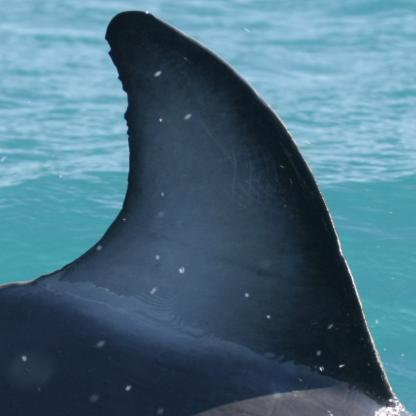dolphin-whale: (2, 9, 416, 416)
